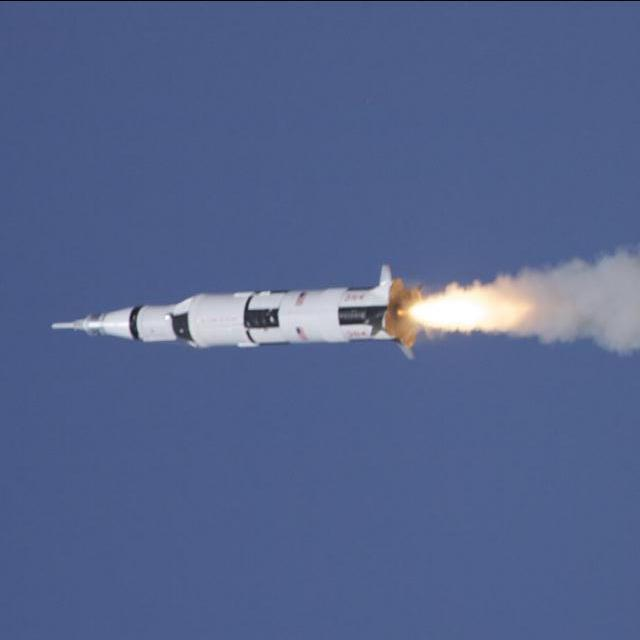missile: (48, 263, 414, 369)
